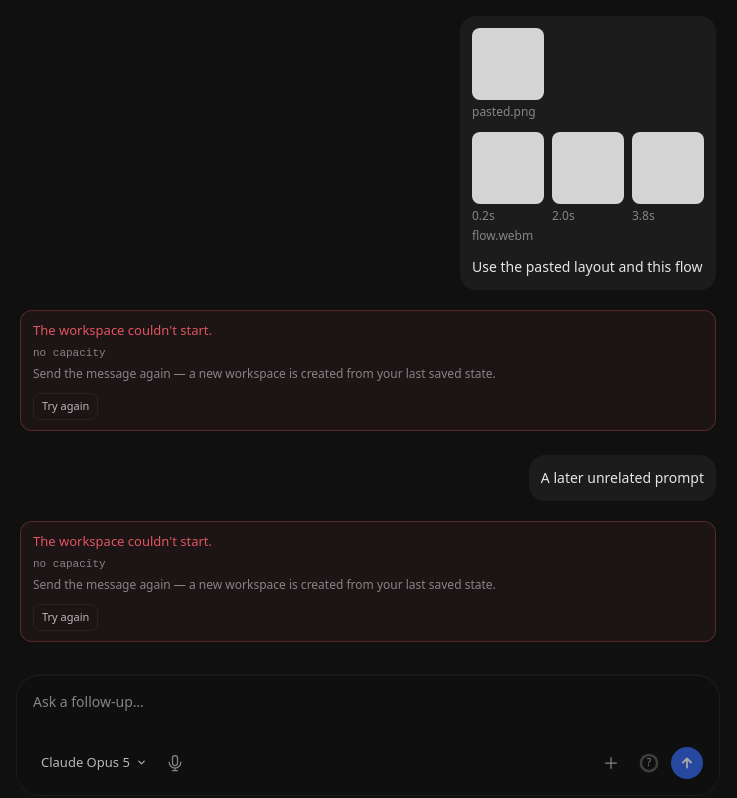
LiveChatPane › does not recover an accepted first prompt when a later transcript retry is refused
Expected: the text box named "Message" is enabled, [33, 691, 703, 739]
What coordinates should you click on to do the following:
click the 2nd button "Try again"
I would click on:
 (66, 618)
Its box is [33, 604, 98, 631].
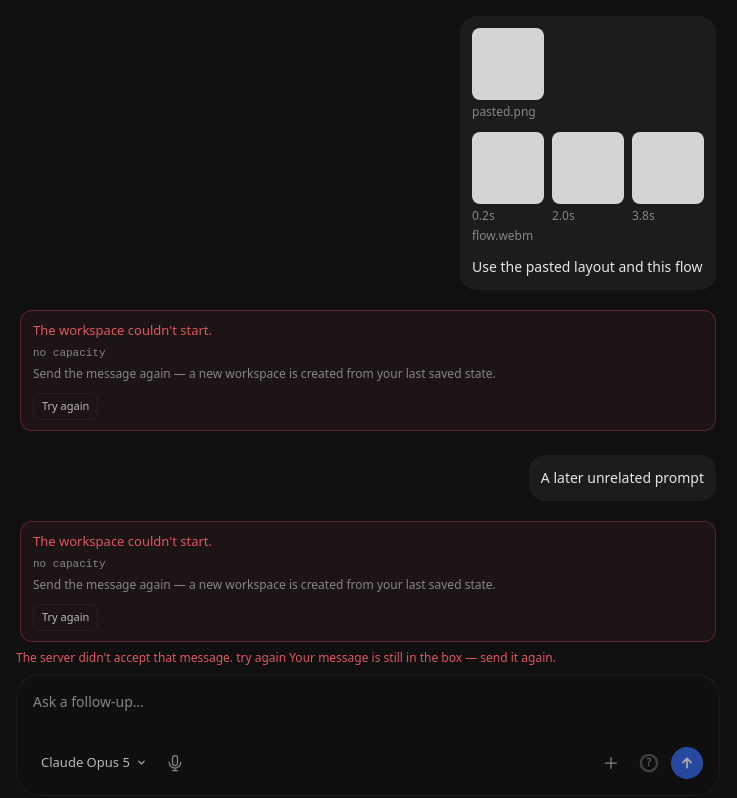
Expected: the text box named "Message" is empty, [33, 691, 703, 739]
Expected: the message is shown, [16, 649, 556, 666]
